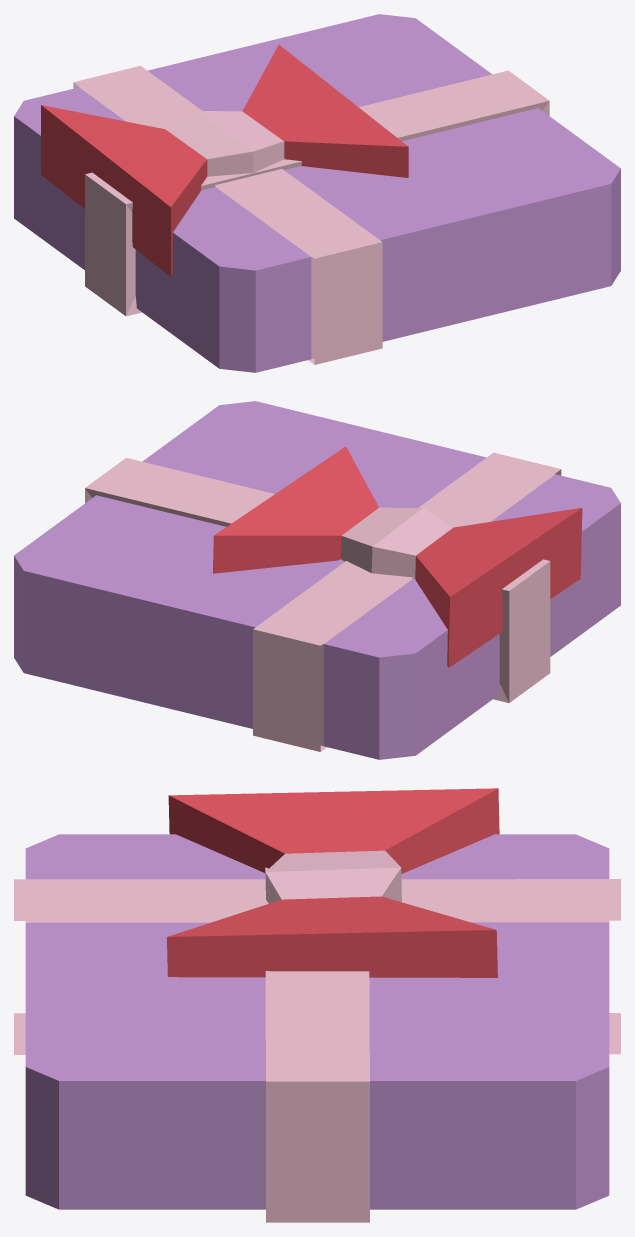
The model's file is gift_1 (1).fbx.
3 renders of one model, top to bottom at view 1: azimuth 30°, elevation 25°; view 2: azimuth 150°, elevation 25°; view 3: azimuth 270°, elevation 25°, orthographic. The views are drawn at different scales.
Parts seen in each view (by area): view 1: Cube.096; view 2: Cube.096; view 3: Cube.096.
Boxes of the visible parts, <box> form: Cube.096: <box>14,14,620,372</box>; Cube.096: <box>14,401,620,759</box>; Cube.096: <box>14,788,620,1222</box>.
Size of the model in its own units: 109 by 35.53 by 107.
